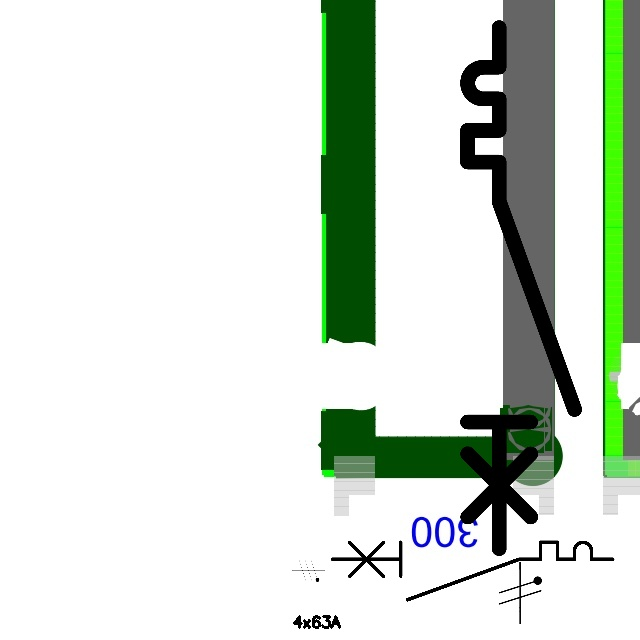interruptor_termomagnetico: (454, 14, 588, 562), (325, 535, 620, 607)
